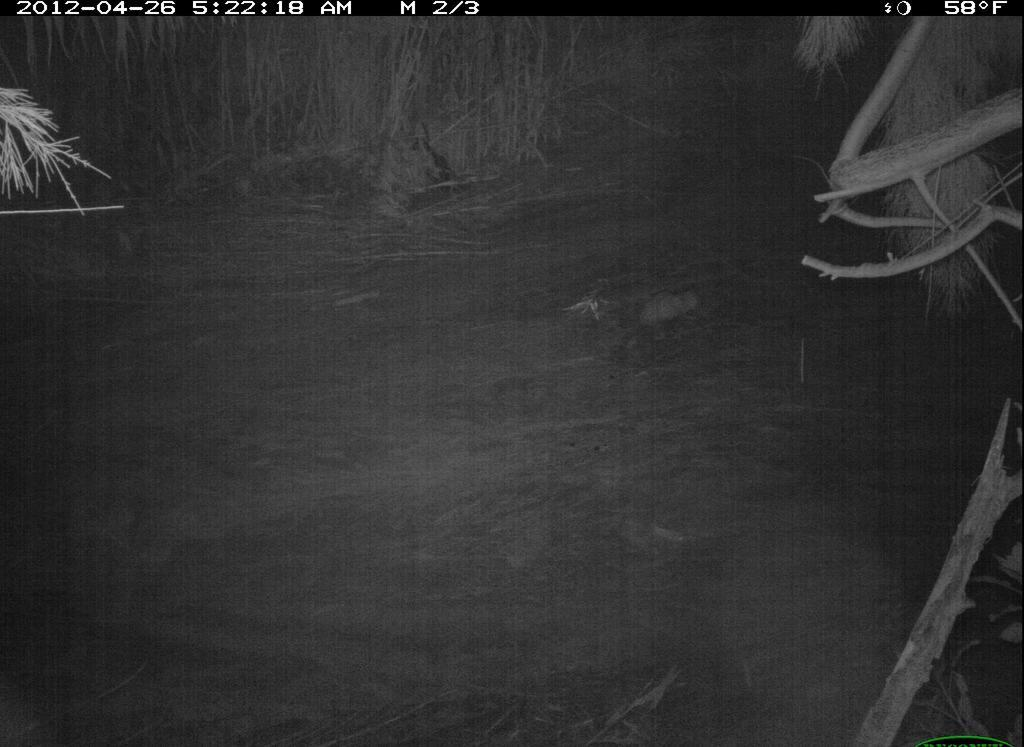opossum: (615, 272, 720, 344)
